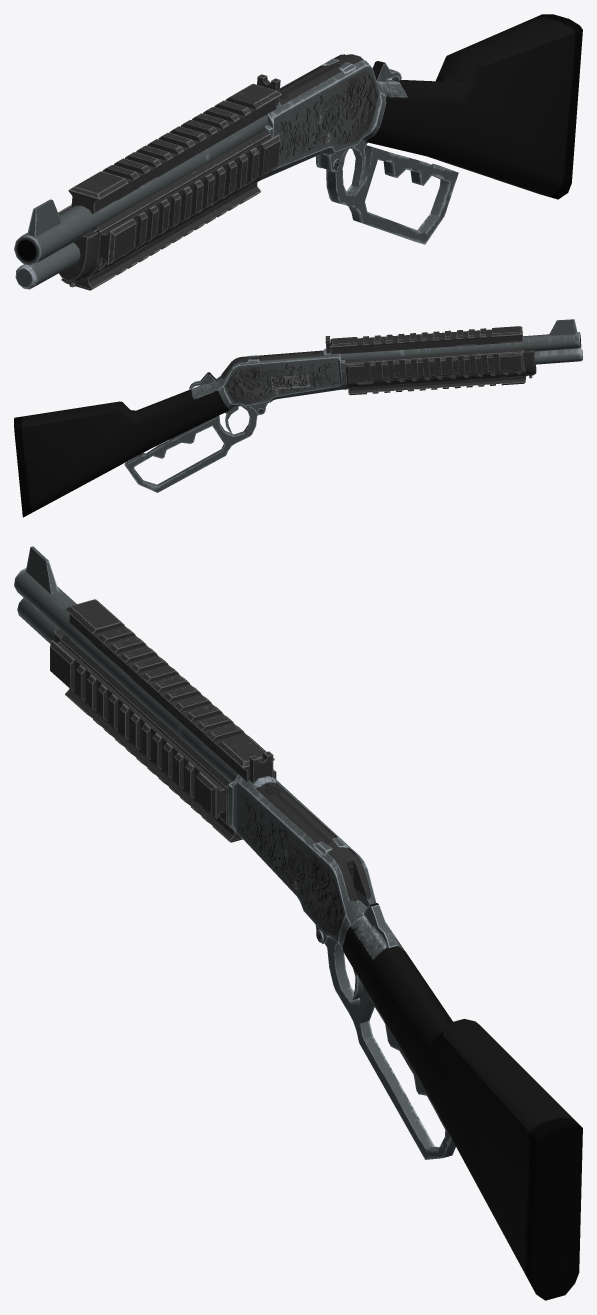
The model's file is tactic_winchester_rifle.glb.
3 renders of one model, top to bottom at view 1: azimuth 30°, elevation 25°; view 2: azimuth 150°, elevation 25°; view 3: azimuth 270°, elevation 25°, orthographic. The views are drawn at different scales.
Visible parts, largest first — view 1: Object_5, Object_2, Object_6, Object_4, Object_3; view 2: Object_5, Object_2, Object_6, Object_4, Object_3; view 3: Object_5, Object_2, Object_4, Object_6, Object_3.
Part boxes in pixels (box(x1,y1,x2,y2)): Object_5: box(319, 14, 582, 199); Object_2: box(58, 74, 281, 290); Object_6: box(14, 55, 555, 289); Object_4: box(257, 54, 386, 181); Object_3: box(82, 129, 270, 280); Object_5: box(14, 355, 309, 517); Object_2: box(325, 326, 536, 395); Object_6: box(124, 319, 582, 492); Object_4: box(215, 348, 347, 409); Object_3: box(345, 349, 526, 388); Object_5: box(313, 837, 582, 1300); Object_2: box(50, 599, 276, 842); Object_4: box(228, 774, 376, 951); Object_6: box(14, 546, 455, 1159); Object_3: box(60, 634, 236, 833).
Bounding box in the file's own units: 29.65 × 12.72 × 17.72.
Materials: 5 (5 with a texture image).
